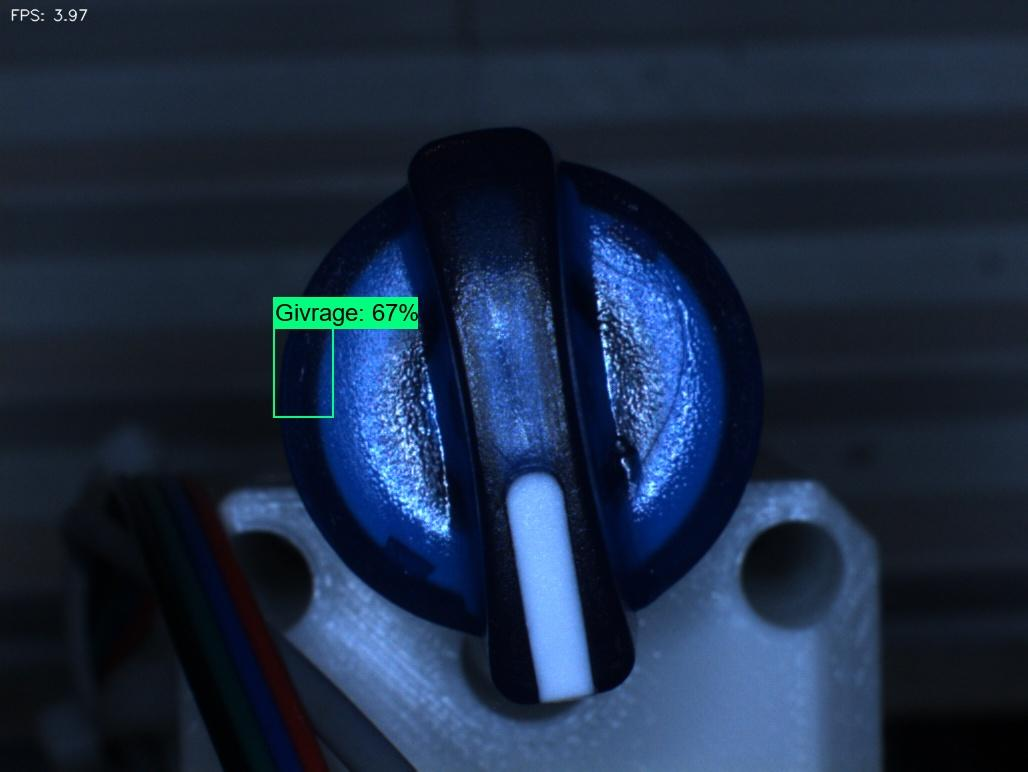Choc: (571, 420, 663, 513)
